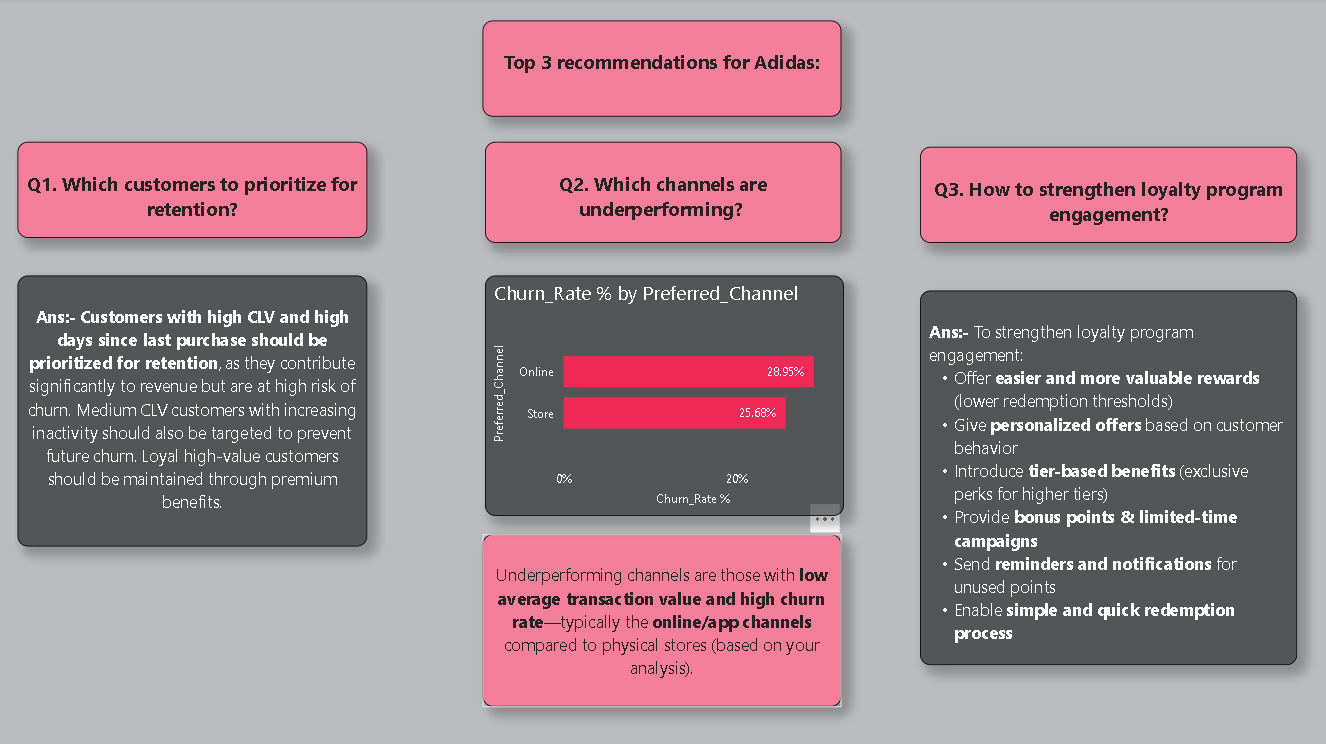

This screenshot's page, from the dashboard's own definition file:
{"tool":"powerbi","page":{"name":"Recommendations","canvas":[1280,720],"ordinal":9},"visuals":[{"type":"textbox","box":[17.1,138.2,337.5,92.9],"z":0},{"type":"textbox","box":[16.9,267.8,337.8,261.8],"z":1},{"type":"textbox","box":[468.1,138.7,343.8,97.7],"z":2},{"type":"textbox","box":[465.7,517.6,346.2,166.5],"z":3},{"type":"textbox","box":[887.9,143.6,364.3,92.9],"z":4},{"type":"barChart","fields":{"Category":["Customer_Demographics.Preferred_Channel"],"Y":["All Measures.Churn_Rate %"]},"box":[468.1,267.8,346.2,231.6],"z":6},{"type":"textbox","box":[887.9,282.3,364.3,361.9],"z":7},{"type":"textbox","box":[465.7,21.7,346.2,92.9],"z":8}]}

Visuals, with their boxes in screenshot pixels (x1, y1, x2, y2), scaled from the page's 1280x720 canvas onto the 1326x744 screenshot:
textbox: 18 143 367 239
textbox: 18 277 367 547
textbox: 485 143 841 244
textbox: 482 535 841 707
textbox: 920 148 1297 244
barChart - Customer_Demographics.Preferred_Channel x All Measures.Churn_Rate %: 485 277 844 516
textbox: 920 292 1297 666
textbox: 482 22 841 118
